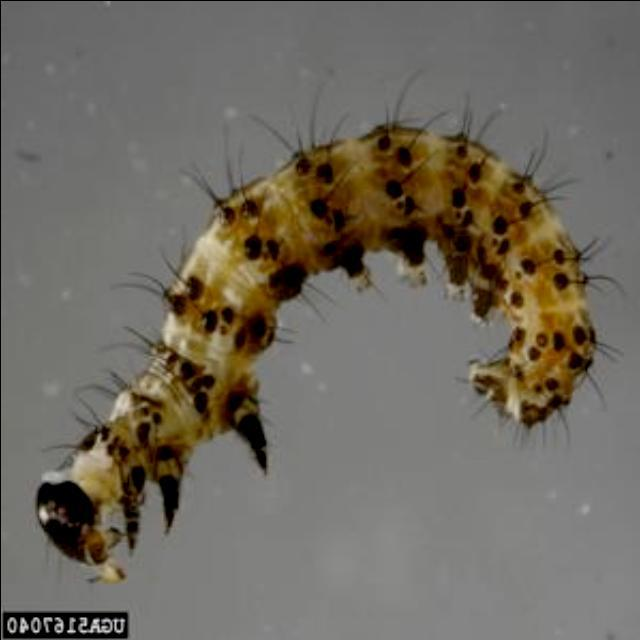Cotton bollworm: (24, 49, 608, 609)
